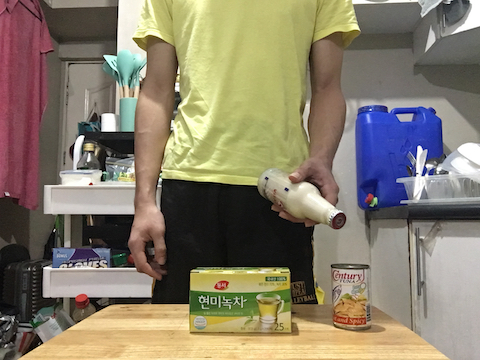bottle: (254, 166, 351, 233)
box: (183, 262, 298, 337)
can: (329, 260, 375, 333)
grab: (270, 161, 339, 228)
